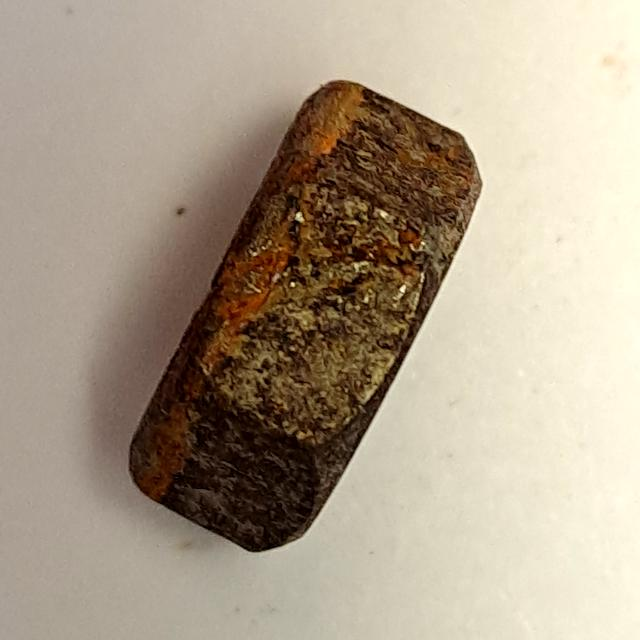Rust: (113, 66, 497, 575)
